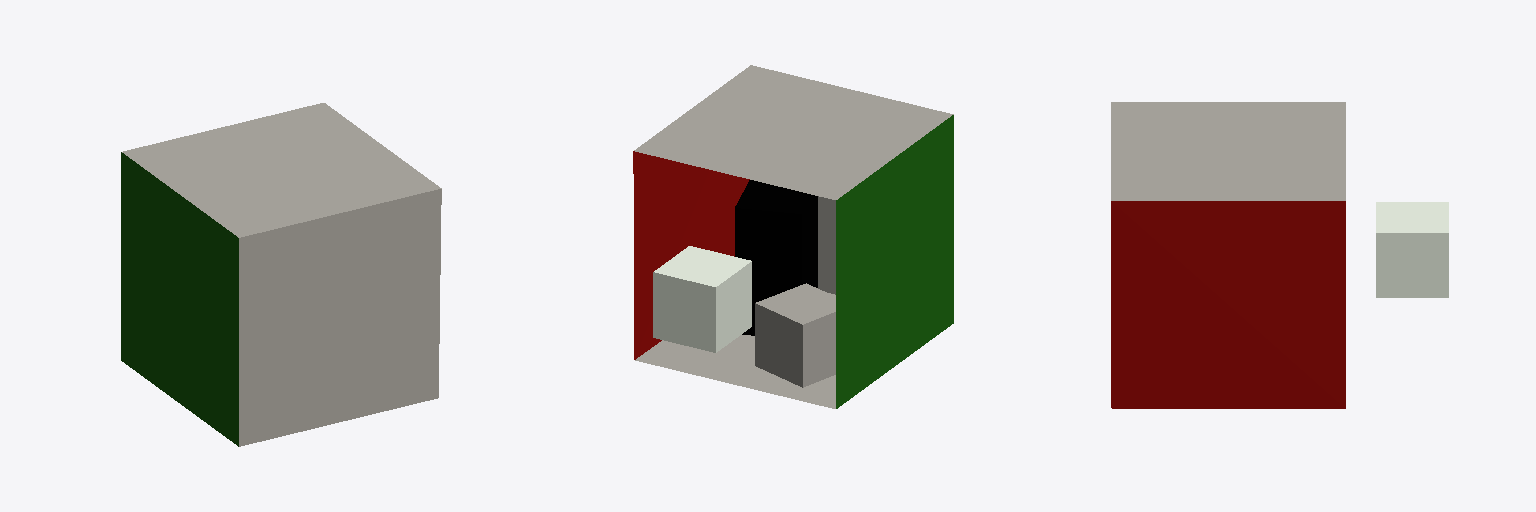
The model's file is cornelltransparent.obj.
The picture shows the model from 3 angles: view 1: azimuth 30°, elevation 25°; view 2: azimuth 150°, elevation 25°; view 3: azimuth 270°, elevation 25°; orthographic projection.
Visible parts, largest first — view 1: CornellBox-Mirror; view 2: CornellBox-Mirror, Cube; view 3: CornellBox-Mirror, Cube.
Boxes of the visible parts, x1,y1,x2,y2 form: CornellBox-Mirror: [121, 103, 441, 446]; CornellBox-Mirror: [633, 65, 953, 408]; Cube: [653, 246, 751, 352]; CornellBox-Mirror: [1111, 102, 1345, 408]; Cube: [1376, 202, 1448, 297].
Bounding box in the file's own units: 2.02 × 1.99 × 2.91.